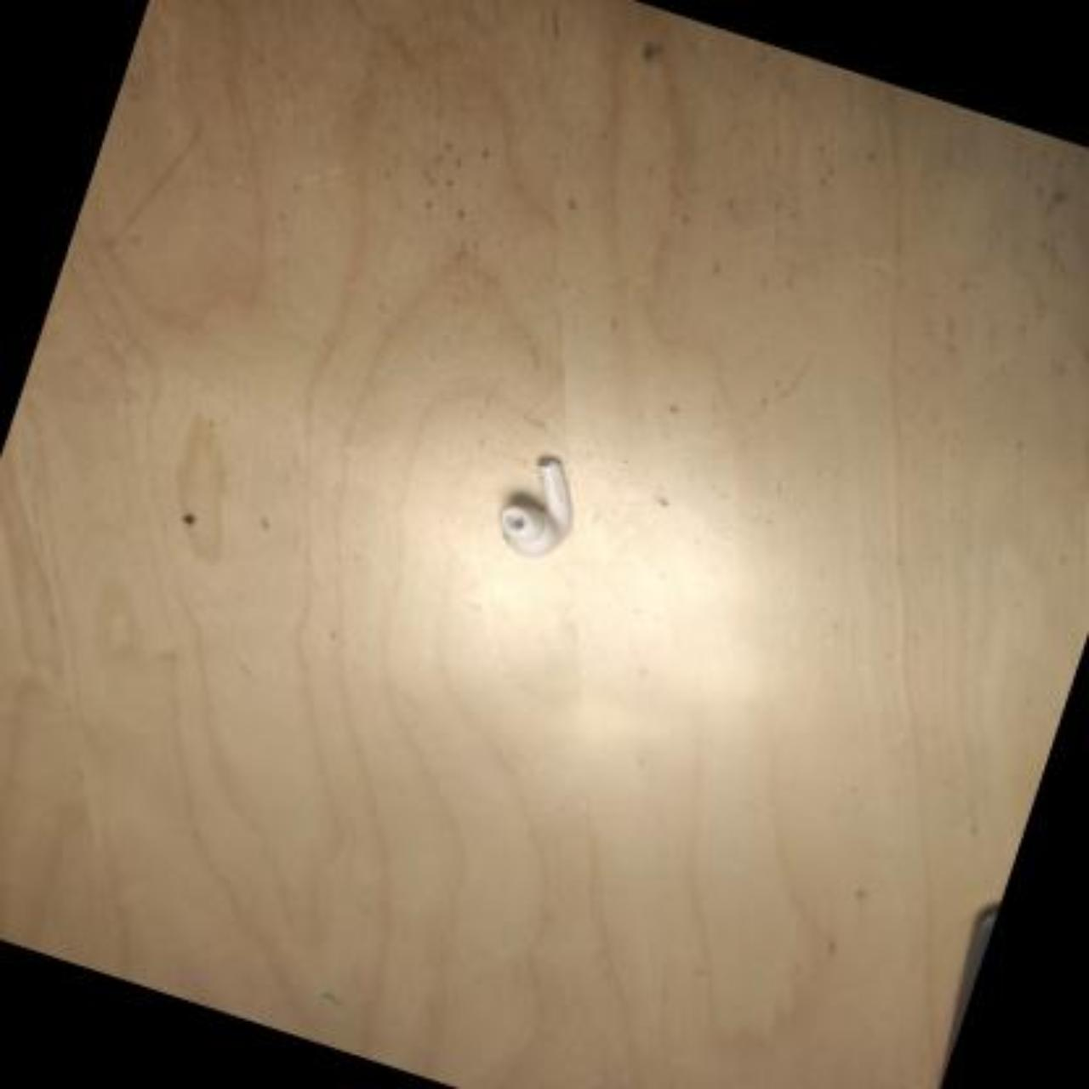Airpods_Units: (491, 448, 590, 568)
